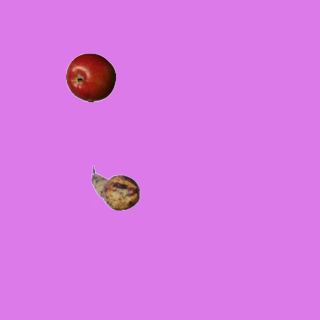Apple Braeburn: (65, 52, 115, 102)
Pear Abate: (90, 163, 140, 213)
